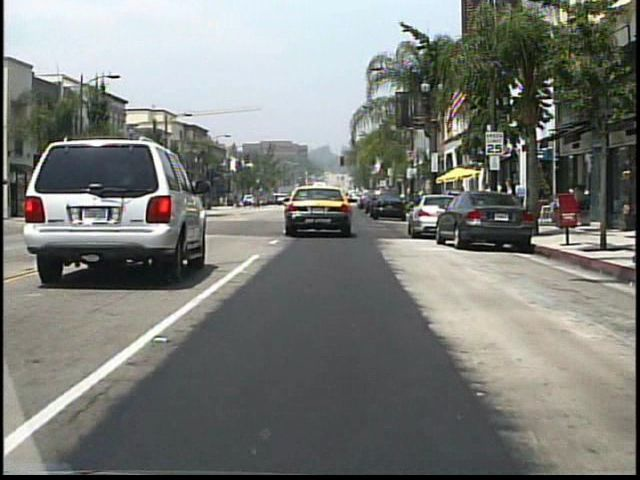person: (499, 176, 518, 217), (512, 179, 528, 222), (493, 179, 507, 218), (505, 183, 517, 216), (273, 190, 281, 206)
